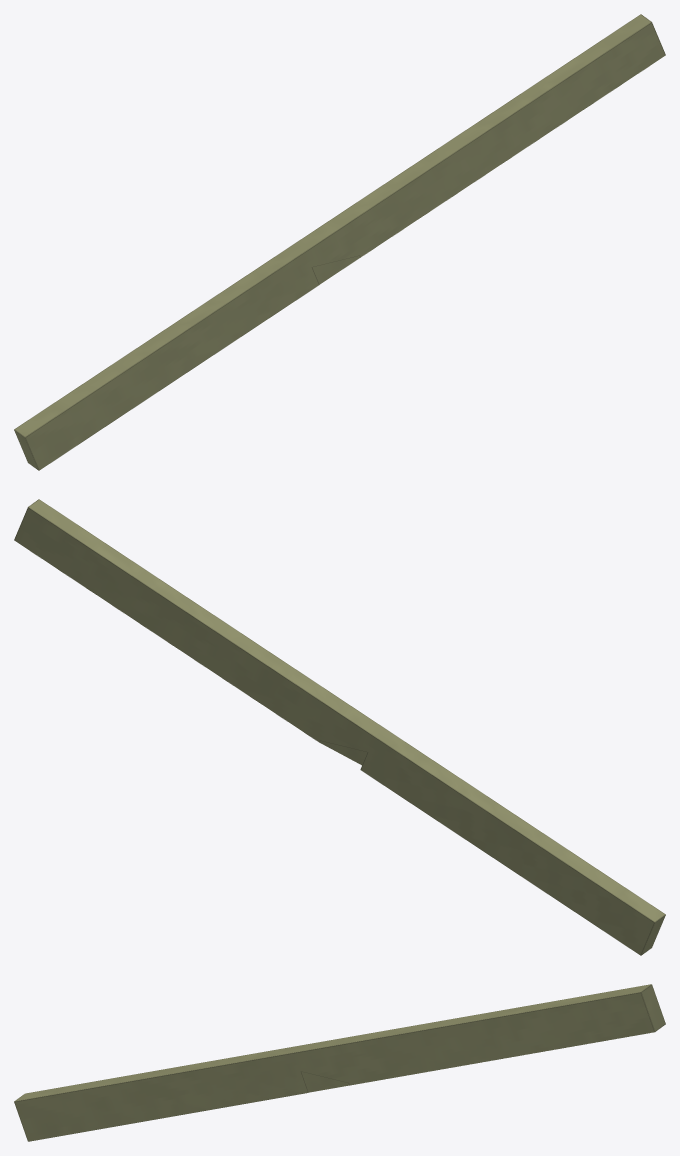
3 renders of one model, top to bottom at view 1: azimuth 30°, elevation 25°; view 2: azimuth 150°, elevation 25°; view 3: azimuth 330°, elevation 25°, orthographic.
Parts seen in each view (by area): view 1: part-b; view 2: part-b; view 3: part-b.
Boxes of the visible parts, <box> form: part-b: <box>14,14,665,470</box>; part-b: <box>14,499,665,955</box>; part-b: <box>14,984,665,1141</box>.
Bounding box in the file's own units: 1.53 × 0.6843 × 0.0458.
